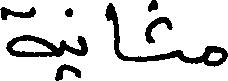X: (0, 2, 54, 61), (107, 0, 119, 63), (204, 41, 227, 71), (60, 4, 67, 80), (77, 31, 87, 80), (172, 22, 183, 66)
